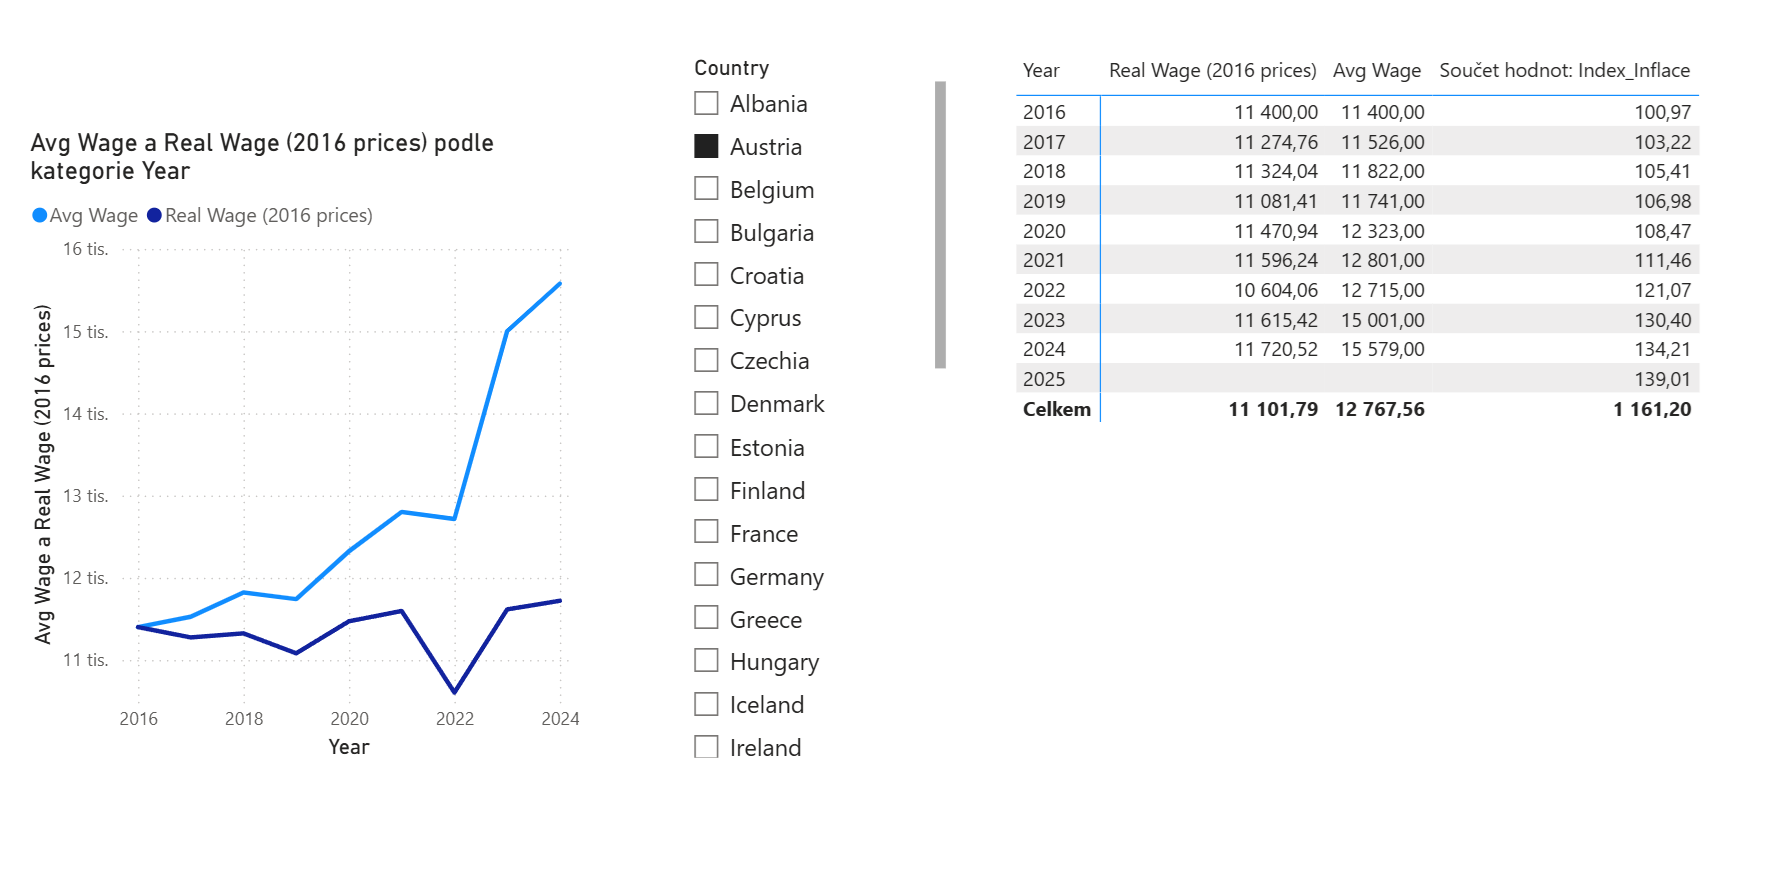

This screenshot's page, from the dashboard's own definition file:
{"tool":"powerbi","page":{"name":"Stránka 1","canvas":[1280,720],"ordinal":0},"visuals":[{"type":"actionButton","box":[0,0,100,40],"z":0},{"type":"lineChart","fields":{"Category":["DimYear.Year"],"Y":["Tabulkové platy.Avg Wage","Tabulkové platy.Real Wage (2016 prices)"]},"box":[50,132,380,430],"z":1000},{"type":"slicer","fields":{"Values":["DimCountry.Country"]},"box":[490,77,188,485],"z":3000},{"type":"pivotTable","fields":{"Values":["Tabulkové platy.Real Wage (2016 prices)","Tabulkové platy.Avg Wage","Sum(Inflace.Index_Inflace)"],"Rows":["DimYear.Year"]},"box":[715,77,521,337],"z":4000}]}

Visuals, with their boxes on the page's 1280x720 design canvas (x1, y1, x2, y2). These are canvas units, not pixel positions in the 1782x875 screenshot, which may show the page scaled, cropped or inside an application window:
actionButton: detection(0, 0, 100, 40)
lineChart - DimYear.Year x Tabulkové platy.Avg Wage: detection(50, 132, 430, 562)
slicer - DimCountry.Country: detection(490, 77, 678, 562)
pivotTable - Tabulkové platy.Real Wage (2016 prices) x Tabulkové platy.Avg Wage: detection(715, 77, 1236, 414)
